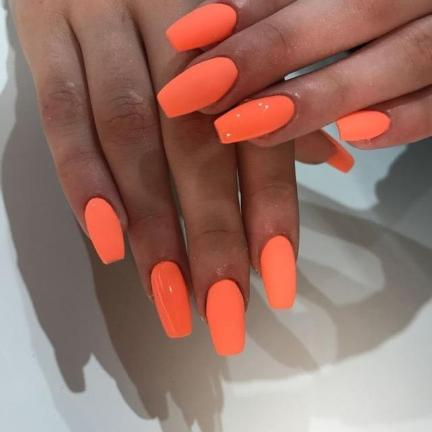Nail: (157, 57, 238, 119), (214, 95, 295, 144), (165, 2, 238, 52), (150, 261, 193, 339), (206, 279, 245, 356), (84, 197, 125, 264), (260, 236, 297, 310), (336, 110, 390, 141)
